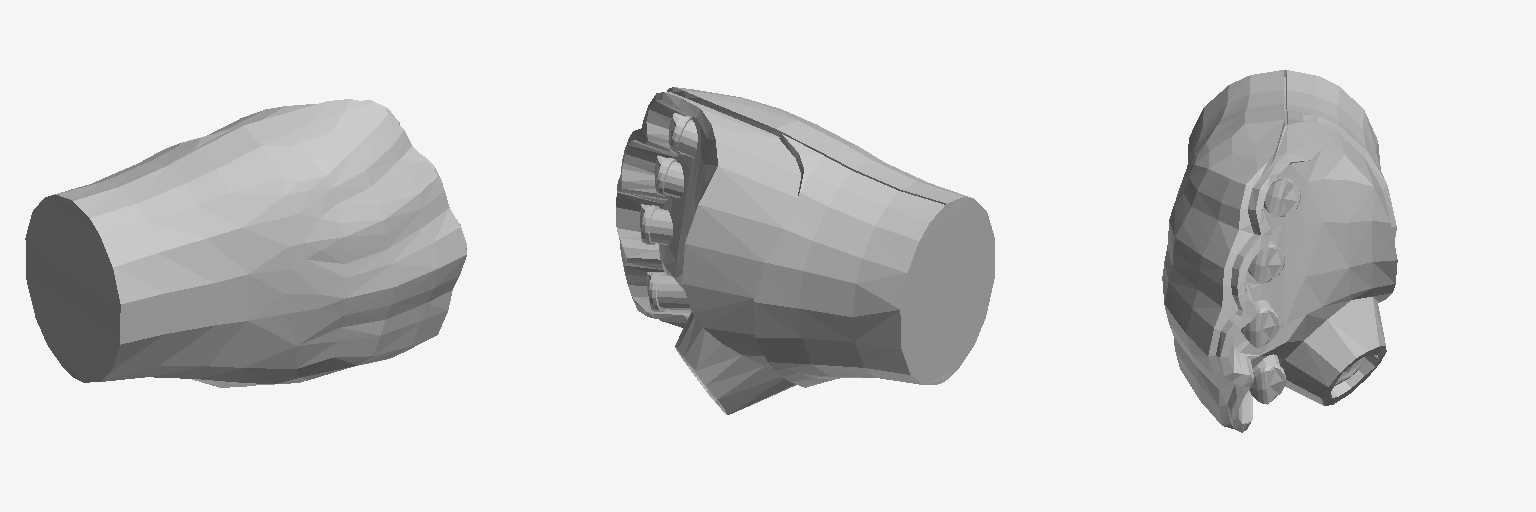
The model's file is LWristYaw.obj.
3 renders of one model, left to right at view 1: azimuth 30°, elevation 25°; view 2: azimuth 150°, elevation 25°; view 3: azimuth 270°, elevation 25°, orthographic.
Parts seen in each view (by area): view 1: default; view 2: default; view 3: default.
Part boxes in pixels (left/top/right/bottom): default: left=25, top=99, right=466, bottom=387; default: left=616, top=87, right=994, bottom=414; default: left=1162, top=70, right=1397, bottom=432.
Size of the model in its own units: 0.1224 by 0.0898 by 0.0687.